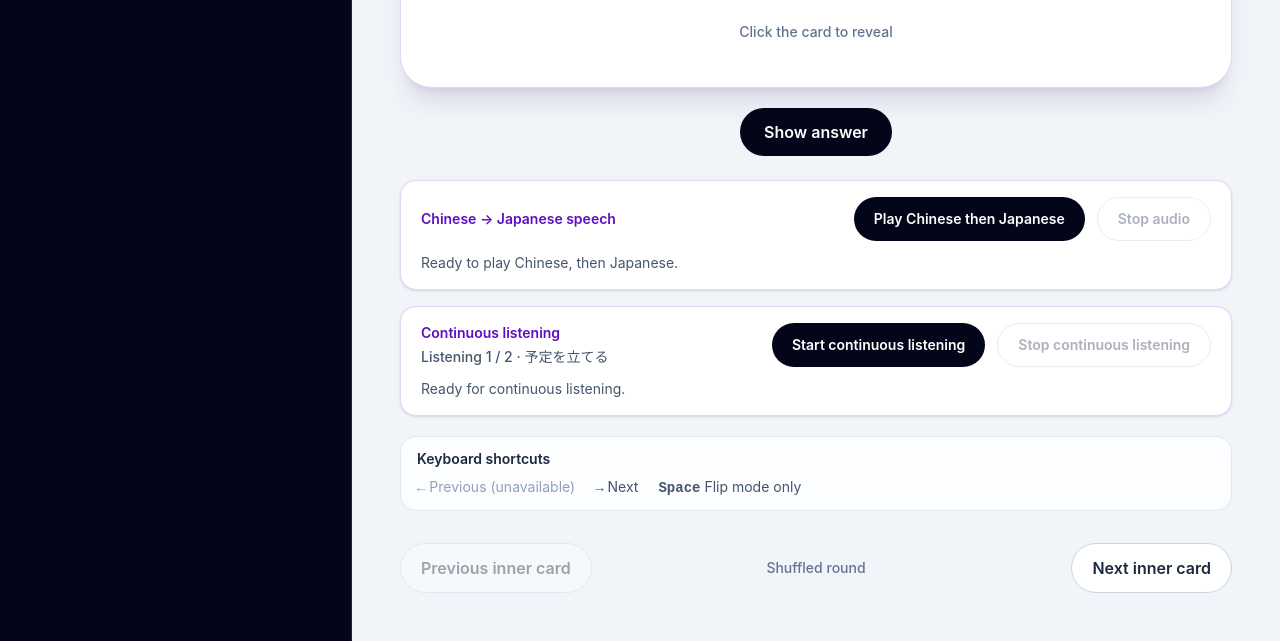
inner review continuous listening › uses the deck-scoped shuffled queue, preserves its seed, and stops on directory navigation
(page scrolled)
Click the button "Start continuous listening" at (879, 345), box [772,323,985,367]
(page scrolled)
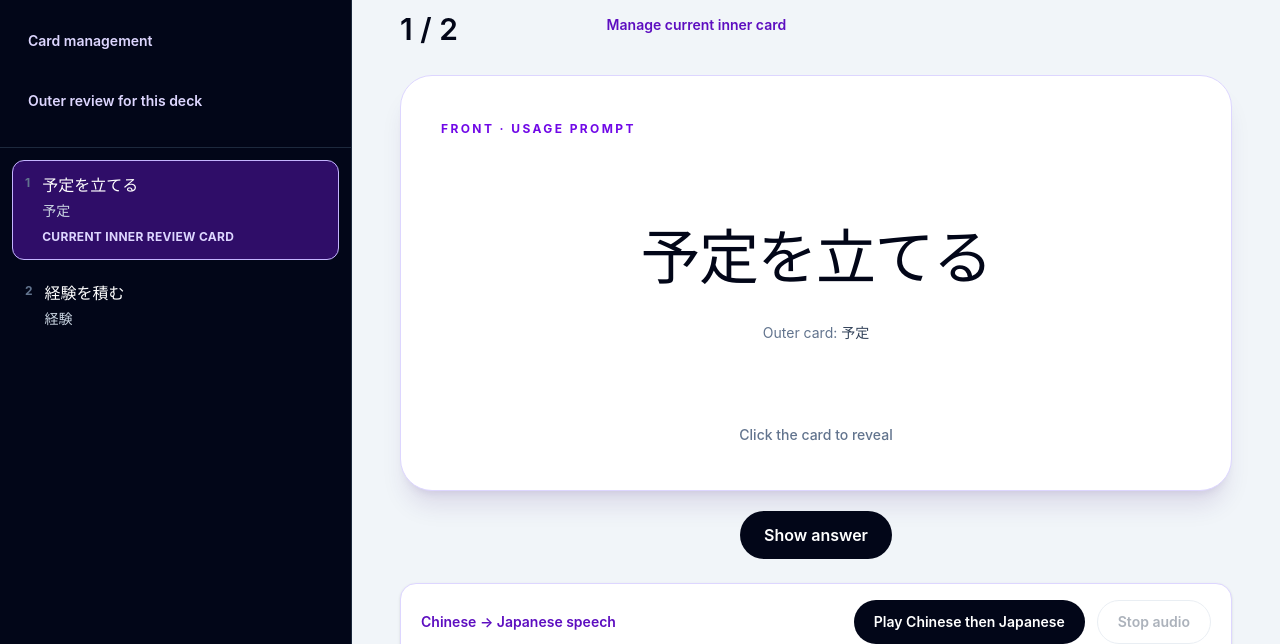
Click the link "2 経験を積む 経験" at (75, 305), box [25,283,125,327]
(page scrolled)
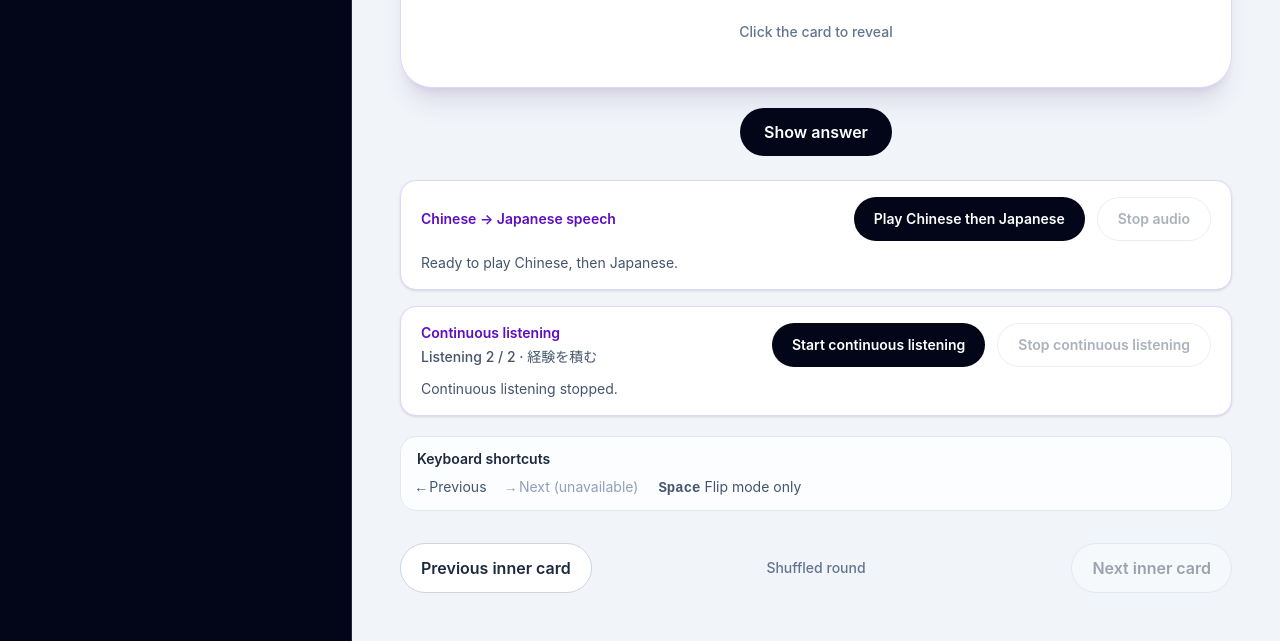
expect the text "Continuous listening stopped." is shown: met, box [421,380,618,397]
